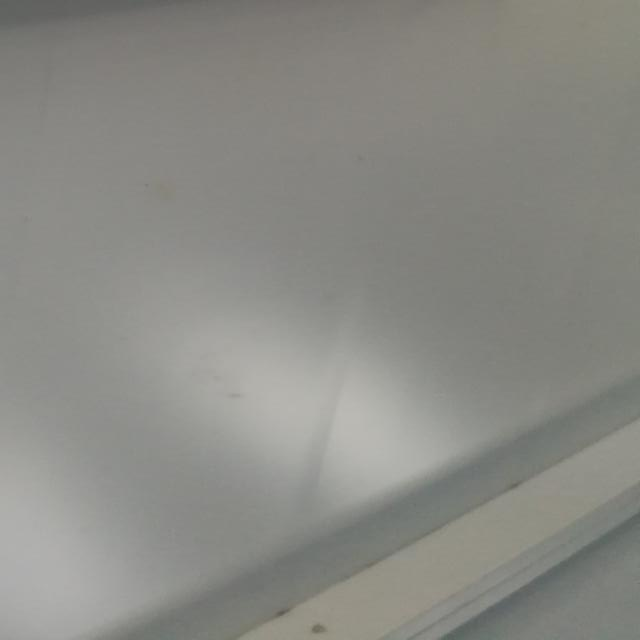fluorescent tube: (0, 0, 588, 71)
